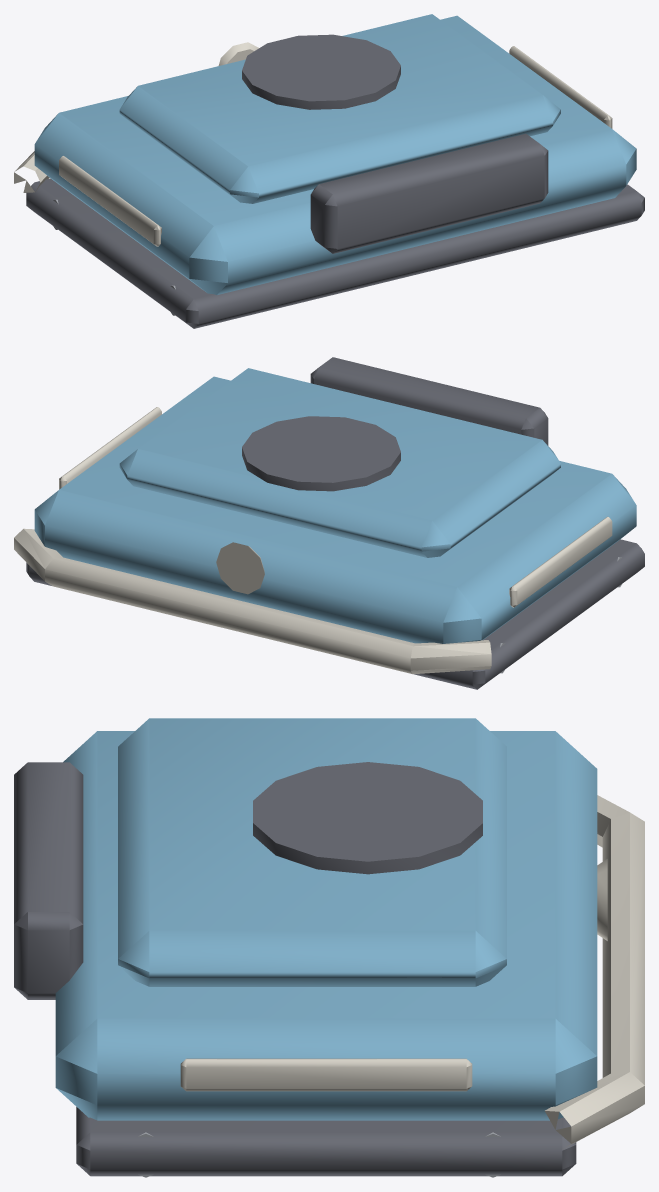
Rendered from mower_deck_2.gltf.
The picture shows the model from 3 angles, top to bottom: view 1: azimuth 30°, elevation 25°; view 2: azimuth 150°, elevation 25°; view 3: azimuth 270°, elevation 25°; orthographic projection. The views are drawn at different scales.
Visible parts, largest first — view 1: mower_deck_2; view 2: mower_deck_2; view 3: mower_deck_2.
Part boxes in pixels (x1,y1,x2,y2): mower_deck_2: [14, 14, 644, 328]; mower_deck_2: [14, 357, 644, 689]; mower_deck_2: [14, 718, 644, 1177].
Size of the model in its own units: 1.18 by 0.325 by 0.9088.
